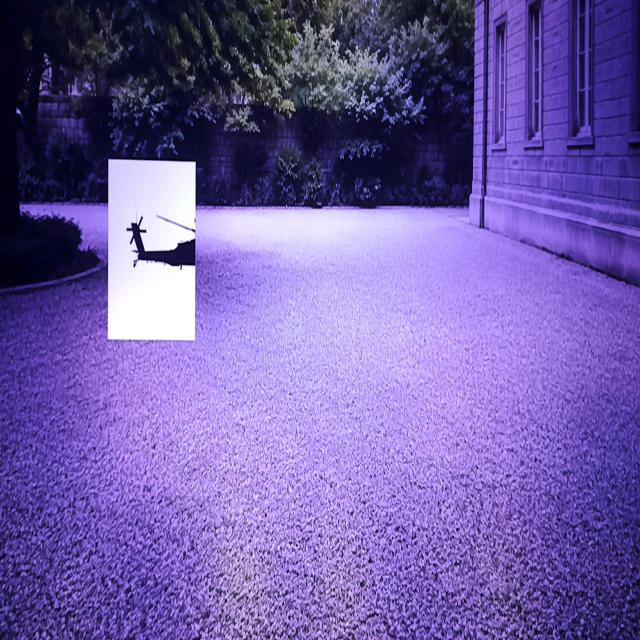Apache friendly: (127, 217, 194, 268)
